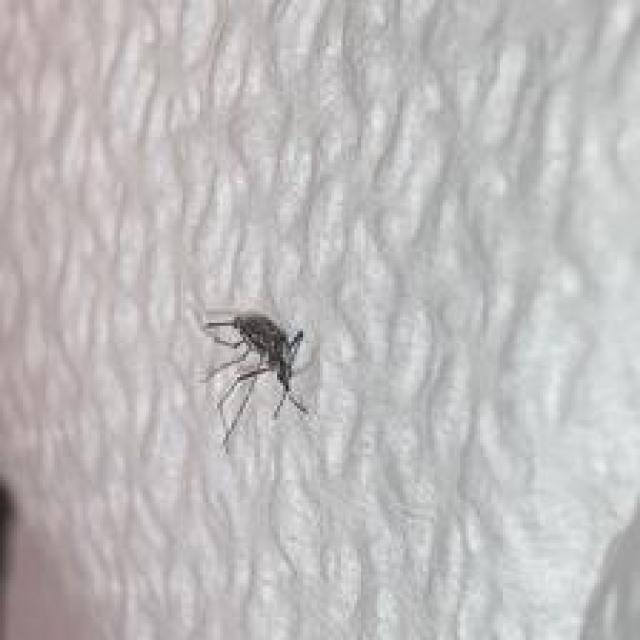Aedes albopictus: (199, 307, 310, 453)
